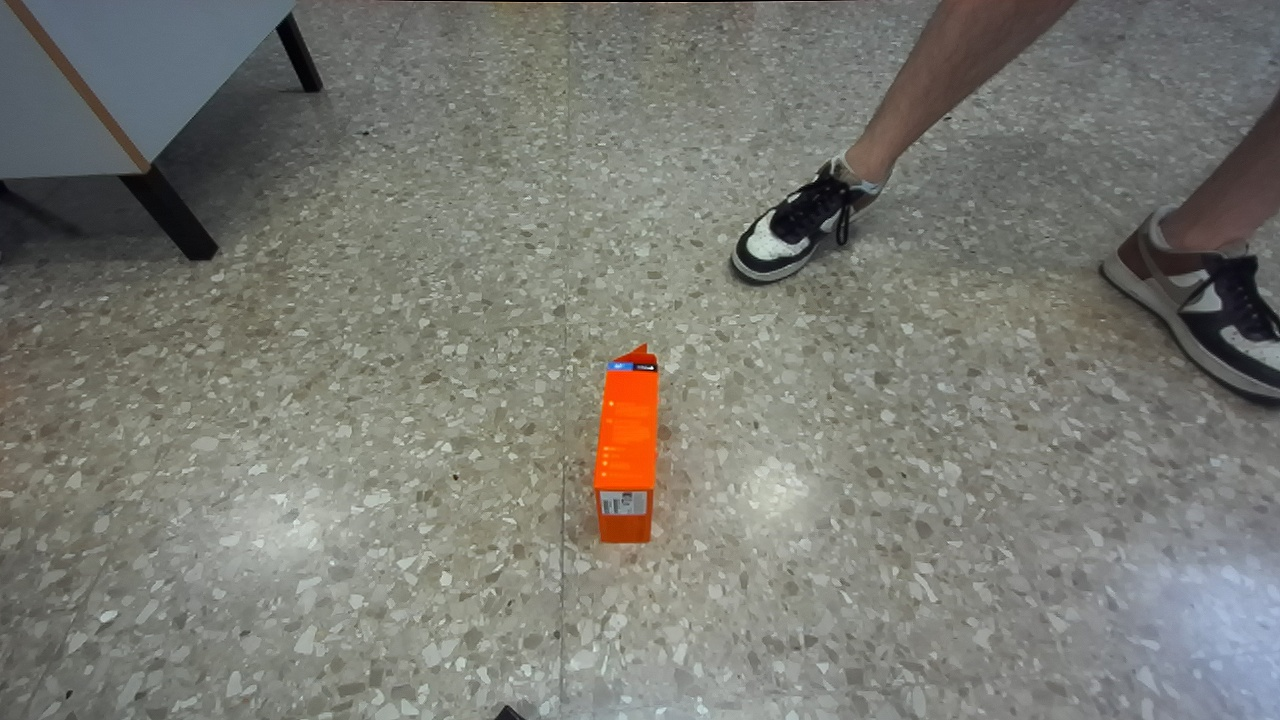caja_manguera: (593, 345, 658, 543)
